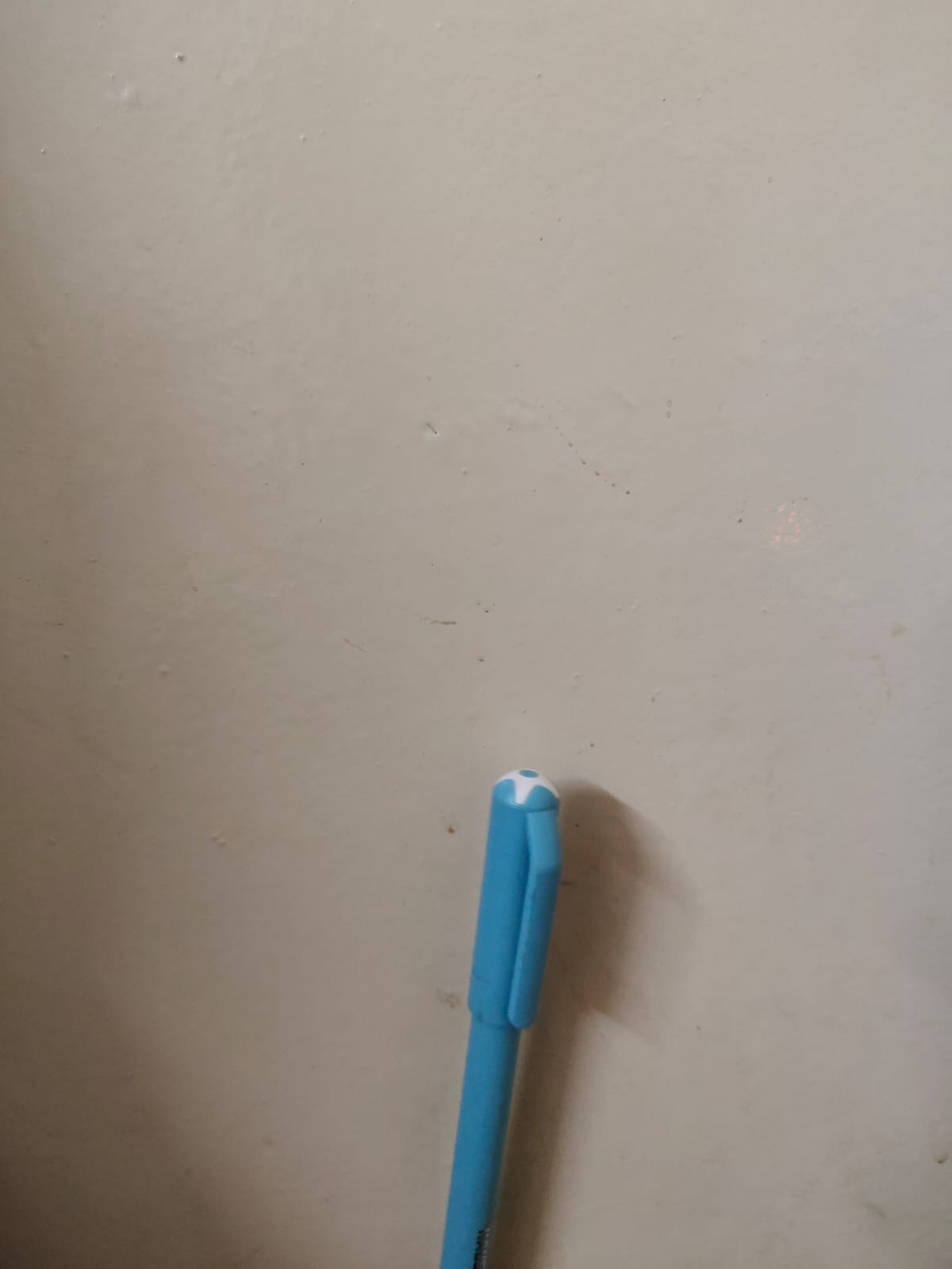pen: (333, 699, 689, 1269)
